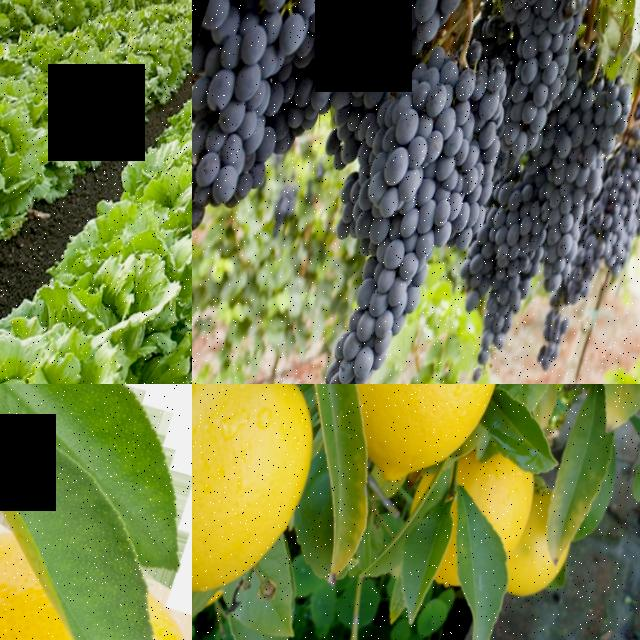grapes: (280, 73, 512, 384), (192, 0, 331, 240), (508, 67, 640, 304), (474, 0, 610, 167), (444, 157, 554, 323), (554, 144, 640, 318), (294, 0, 453, 82)
lemon: (192, 384, 341, 629), (346, 384, 529, 476)
lettuce: (40, 204, 192, 377), (6, 26, 141, 163), (0, 282, 161, 384), (0, 81, 53, 270), (117, 117, 192, 248)
